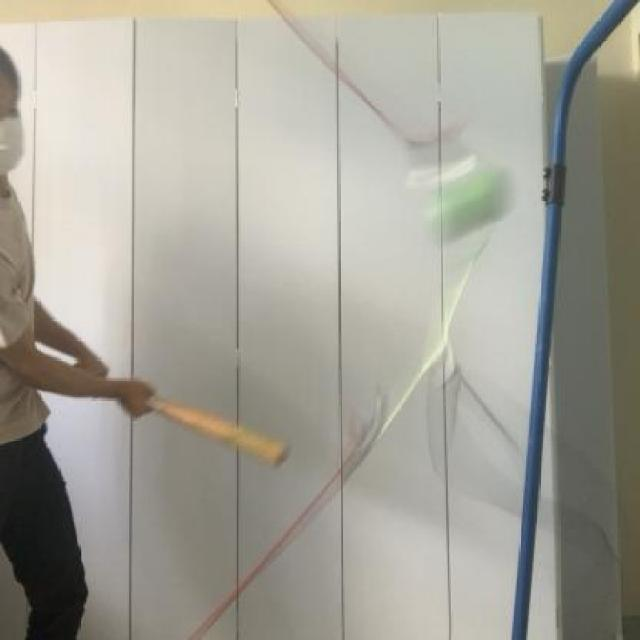baseball: (420, 159, 515, 250)
